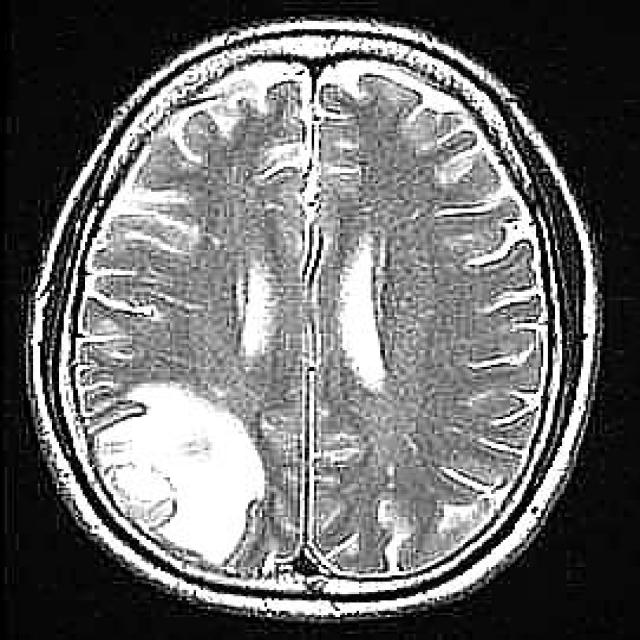Tumor-Cell: (104, 368, 274, 561)
